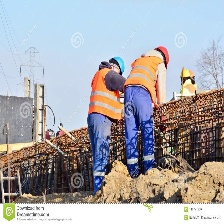person: (125, 43, 170, 175), (88, 55, 122, 193)
vest: (129, 54, 165, 101), (91, 67, 122, 121)
